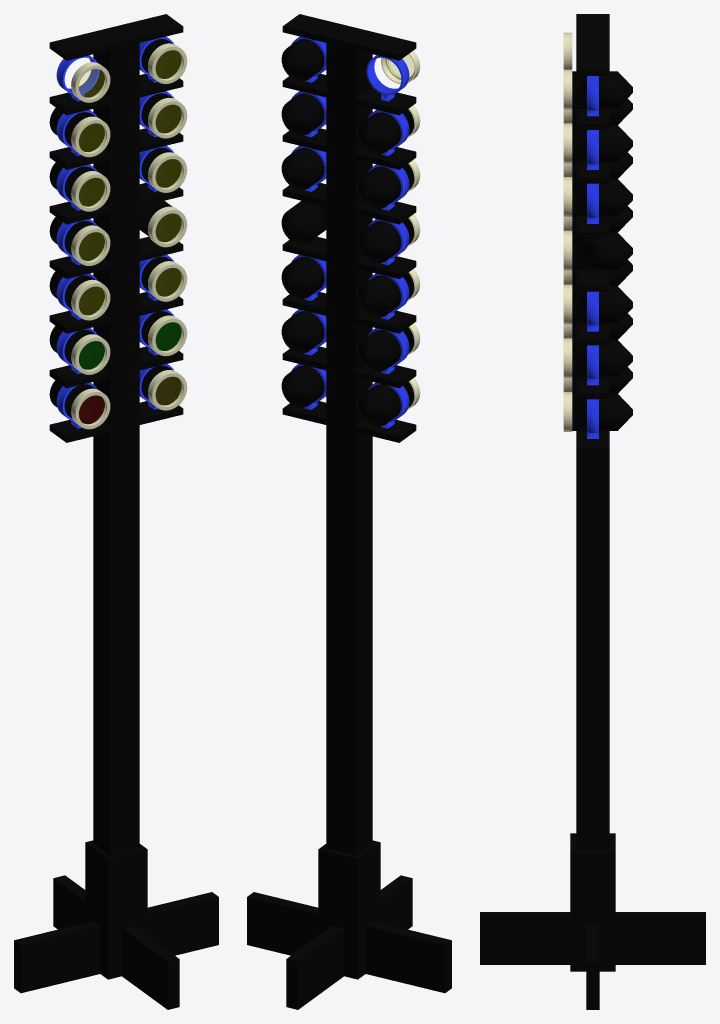
The model's file is start_tree.glb.
The picture shows the model from 3 angles, left to right: view 1: azimuth 30°, elevation 25°; view 2: azimuth 150°, elevation 25°; view 3: azimuth 270°, elevation 25°; orthographic projection.
Parts seen in each view (by area): view 1: frame, left_prestage, left_three, left_stage, left_go, left_one, left_two, left_foul, right_two, right_one, right_stage, right_three (+18 smaller); view 2: frame, left_one, left_stage, left_three, left_two, left_foul, left_go, right_two, right_stage, right_foul, right_go, right_three (+3 smaller); view 3: frame, right_two, right_three, right_go, right_one, right_prestage, right_stage, right_foul.
Part boxes in pixels (x1,y1,x2,y2): frame: (14, 14, 218, 1009); left_prestage: (56, 55, 110, 102); left_three: (49, 162, 104, 206); left_stage: (49, 108, 104, 151); left_go: (49, 326, 104, 369); left_one: (49, 271, 104, 315); left_two: (49, 217, 104, 260); left_foul: (49, 380, 104, 424); right_two: (139, 200, 181, 242); right_one: (141, 256, 181, 296); right_stage: (141, 93, 181, 133); right_three: (141, 147, 181, 187); frame: (247, 14, 451, 1009); left_one: (358, 272, 414, 317); left_stage: (358, 109, 414, 154); left_three: (358, 164, 414, 208); left_two: (358, 218, 414, 263); left_foul: (358, 382, 414, 426); left_go: (358, 327, 414, 371); right_two: (281, 200, 326, 244); right_stage: (281, 93, 324, 135); right_foul: (281, 365, 324, 407); right_go: (281, 311, 324, 353); right_three: (281, 147, 324, 190); frame: (480, 14, 705, 1009); right_two: (572, 232, 632, 269); right_three: (572, 178, 632, 216); right_go: (572, 339, 632, 377); right_one: (572, 286, 632, 323); right_prestage: (572, 71, 632, 108); right_stage: (572, 125, 632, 162); right_foul: (572, 393, 632, 430).
Bounding box in the file's own units: 0.6096 × 2.74 × 0.6096.
